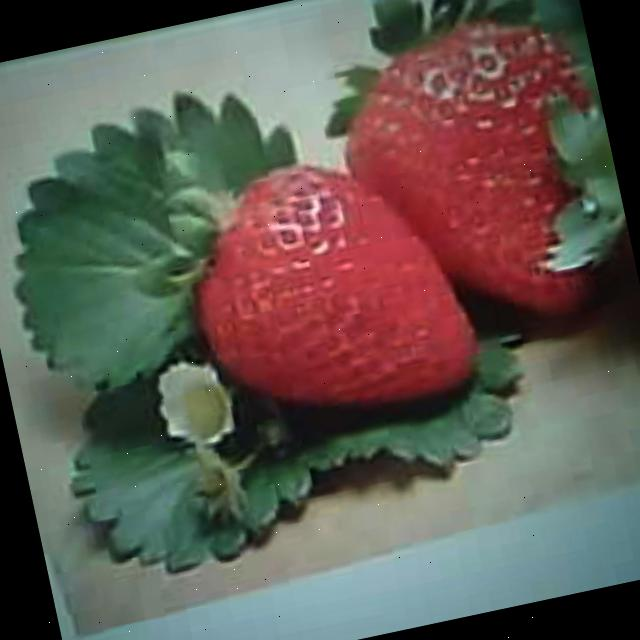strawberry: (328, 1, 636, 353), (174, 132, 484, 437)
